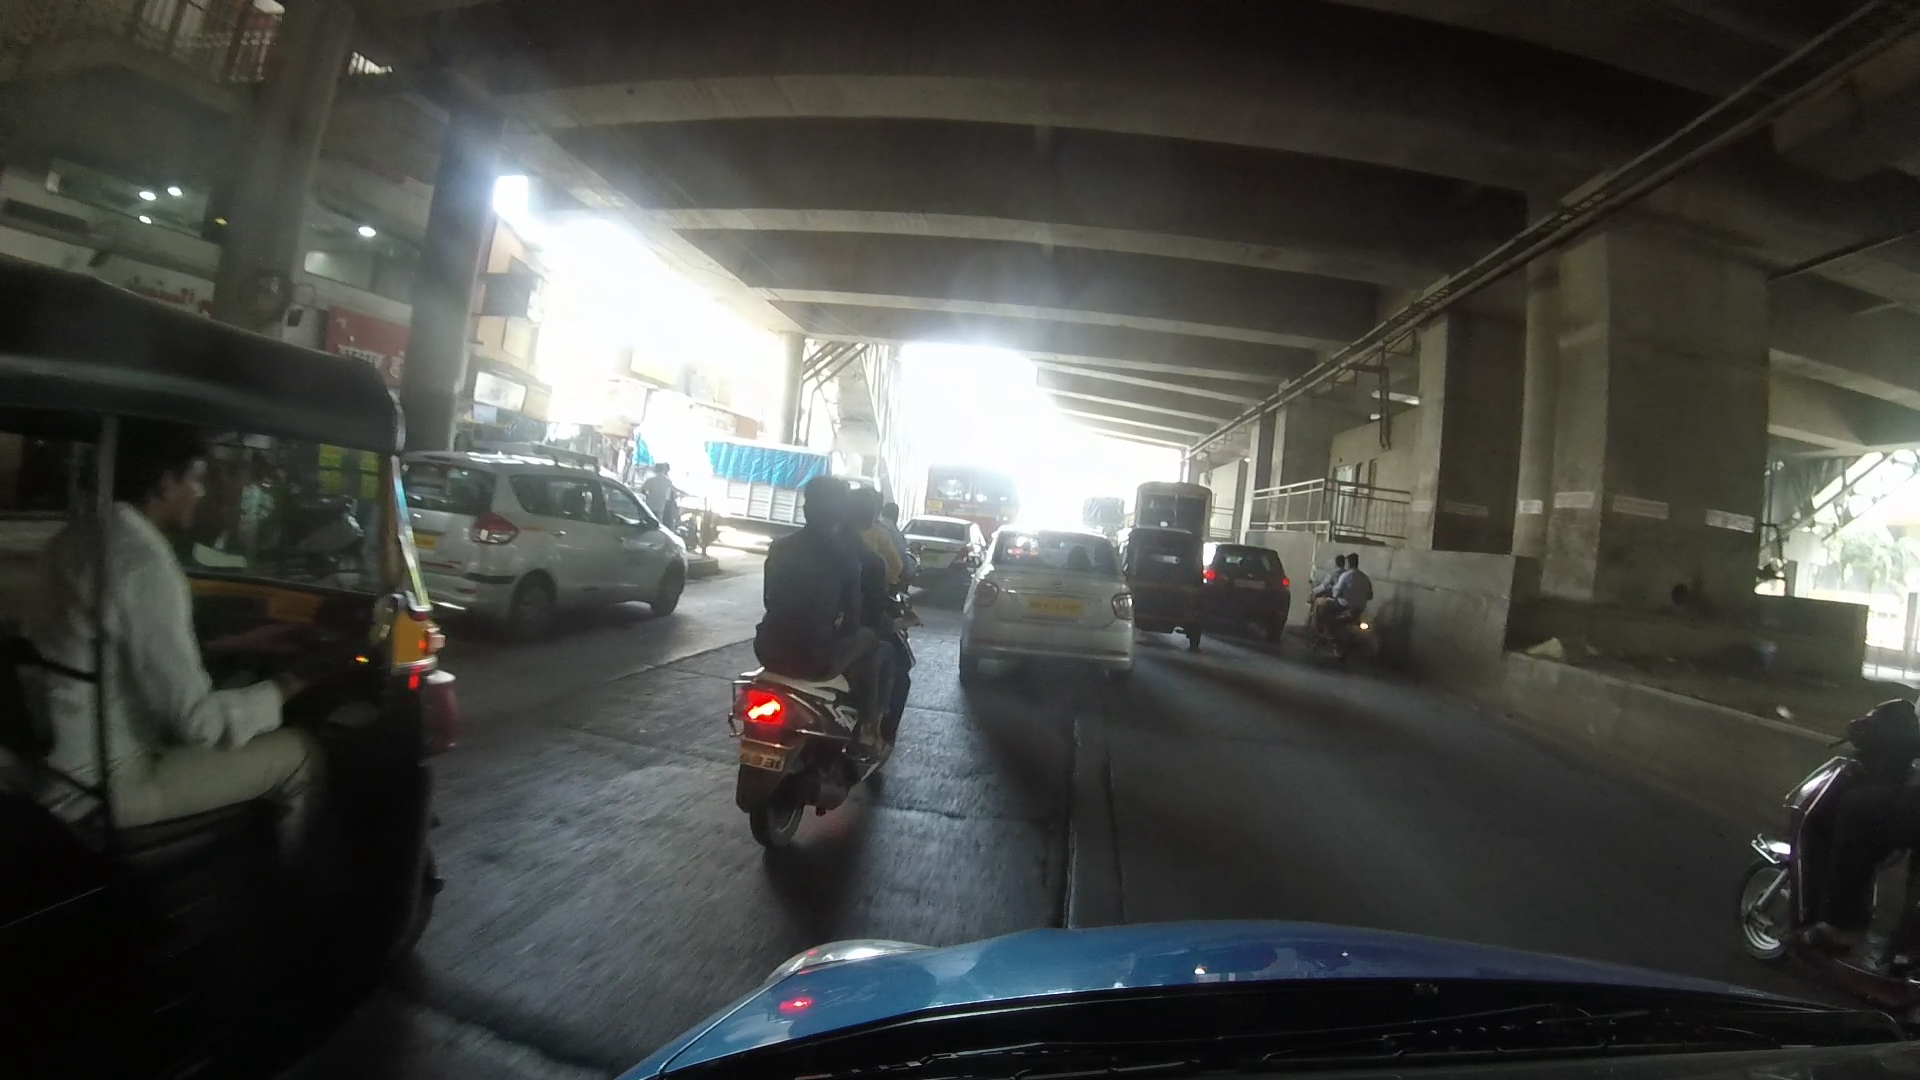bike/scooter: (712, 462, 895, 833), (1305, 538, 1393, 680)
car: (406, 415, 694, 618), (967, 524, 1139, 692), (1211, 533, 1294, 647), (899, 496, 984, 597)
rickshaw: (3, 229, 454, 973), (1120, 516, 1218, 641)
